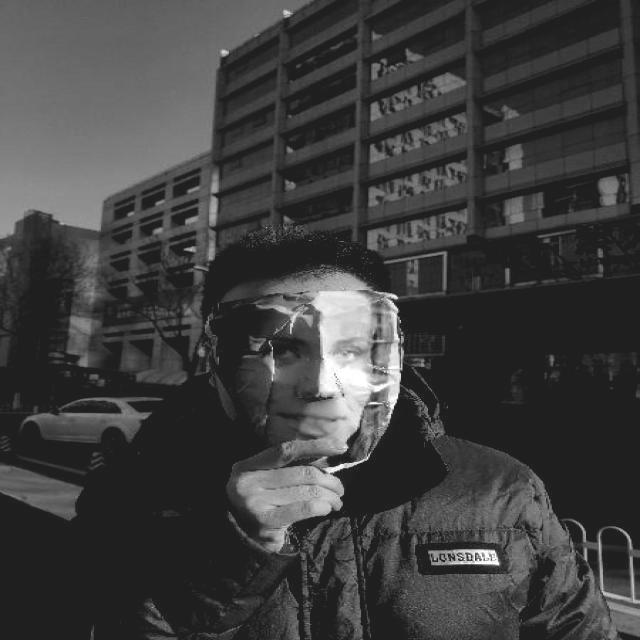fake: (214, 283, 396, 463)
